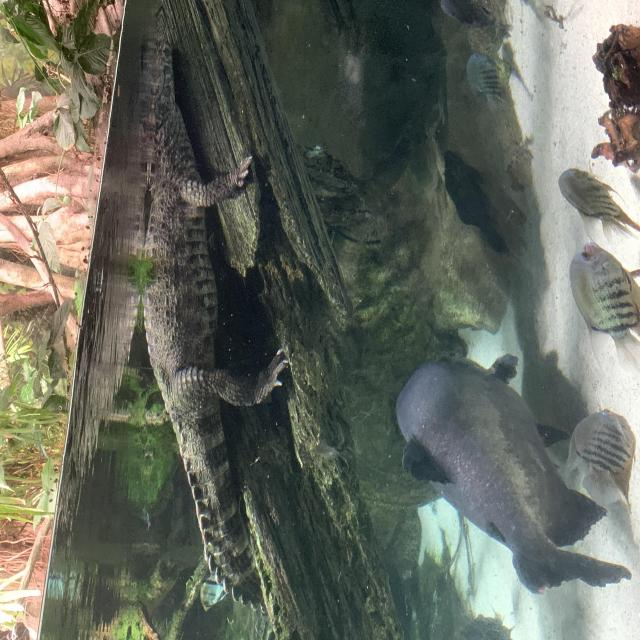fish: (392, 346, 635, 598), (567, 241, 640, 370), (564, 402, 638, 508), (556, 164, 640, 244), (440, 0, 511, 50), (464, 51, 513, 114), (200, 568, 227, 614)
